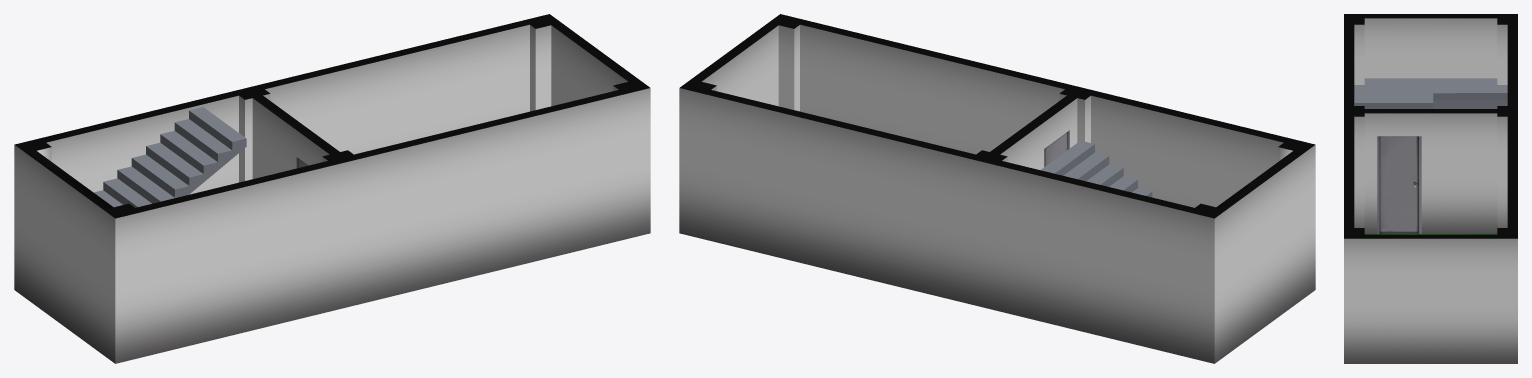
Rendered from soulbrain_T3-2-1B.glb.
3 renders of one model, left to right at view 1: azimuth 30°, elevation 25°; view 2: azimuth 150°, elevation 25°; view 3: azimuth 270°, elevation 25°, orthographic. The views are drawn at different scales.
Visible parts, largest first — view 1: Rectangle001, UTypeStair001; view 2: Rectangle001, UTypeStair001; view 3: Rectangle001, UTypeStair001, Box658.
Part boxes in pixels (x1=…): Rectangle001: x1=14, y1=14, x2=650, y2=363; UTypeStair001: x1=94, y1=107, x2=246, y2=207; Rectangle001: x1=679, y1=14, x2=1315, y2=363; UTypeStair001: x1=1040, y1=140, x2=1152, y2=197; Rectangle001: x1=1344, y1=14, x2=1517, y2=363; UTypeStair001: x1=1354, y1=78, x2=1507, y2=108; Box658: x1=1377, y1=136, x2=1421, y2=233.
Size of the model in its own units: 10.4 by 2.7 by 3.4.
5 materials, 4 textured.
